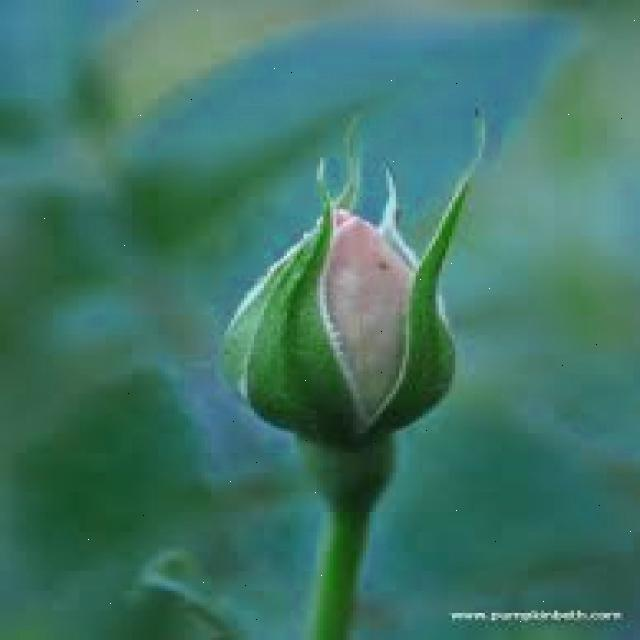Unbloomed: (178, 117, 511, 501)
